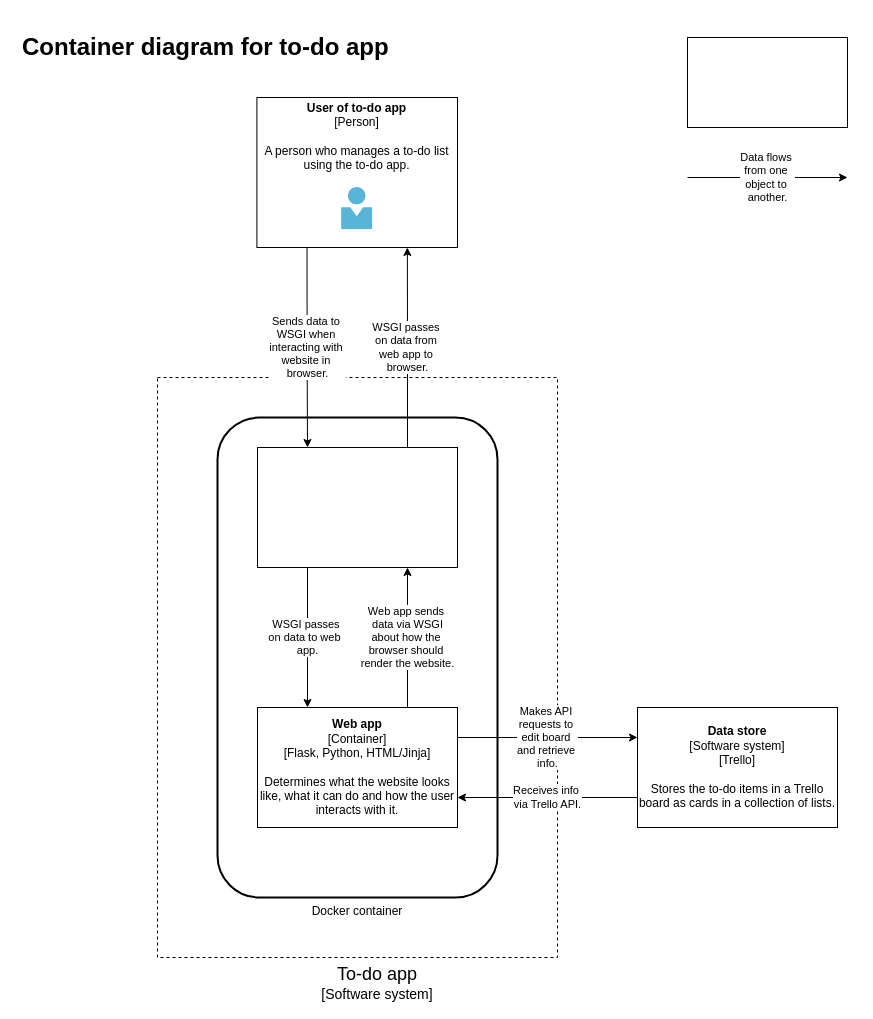
The diagram is 873 pixels wide and 1019 high, and some of its shapes have lost their labels. The shapes that lost their labels are listed below. From the top down, each one's centre as x and y in pixels, then its label:
pixel 767 82: Object [Container / Person / Software system] Details.
pixel 357 507: WSGI [Container] [Gunicorn] A production-ready server on which the app runs.
